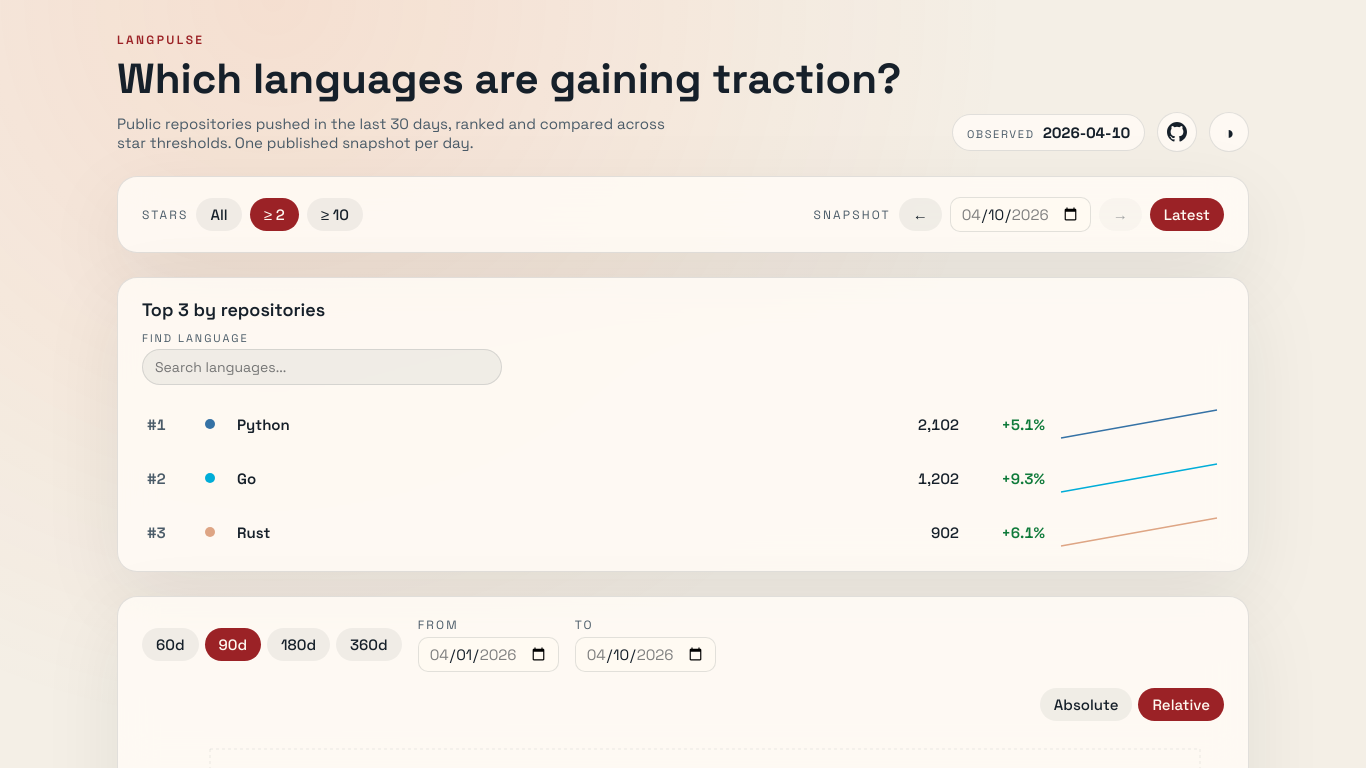
App › renders the Jump-to-latest banner when the snapshot date returns 404
Check: the text "Python" is shown, box [237,415,290,434]
Click the button named "Previous day".
click(920, 215)  # box [899,198,942,231]
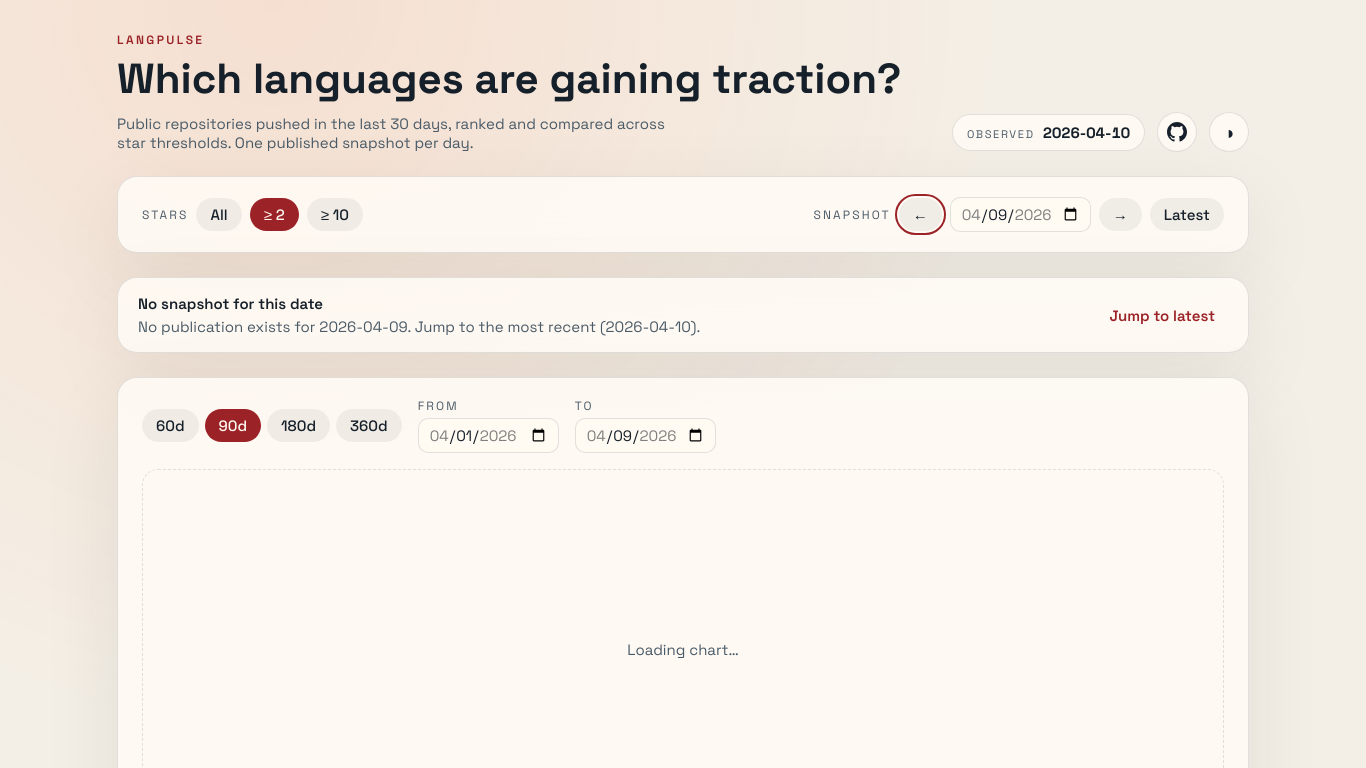
Check: the text "No snapshot for this date" is shown, box [138,294,323,313]
Click the button "Jump to latest".
click(1162, 315)  # box [1096,299,1228,332]
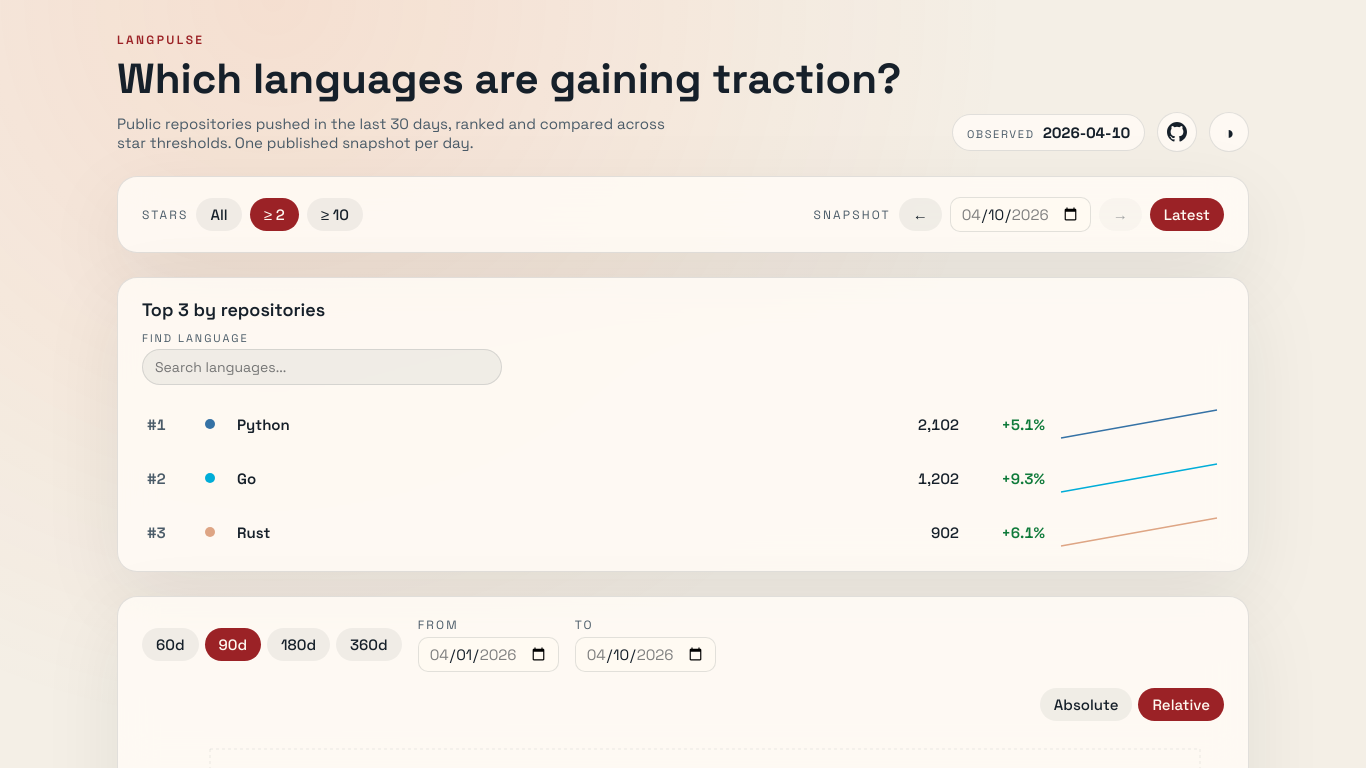
Check: the text "No snapshot for this date" is gone
Check: the text "Python" is shown, box [237,415,290,434]
